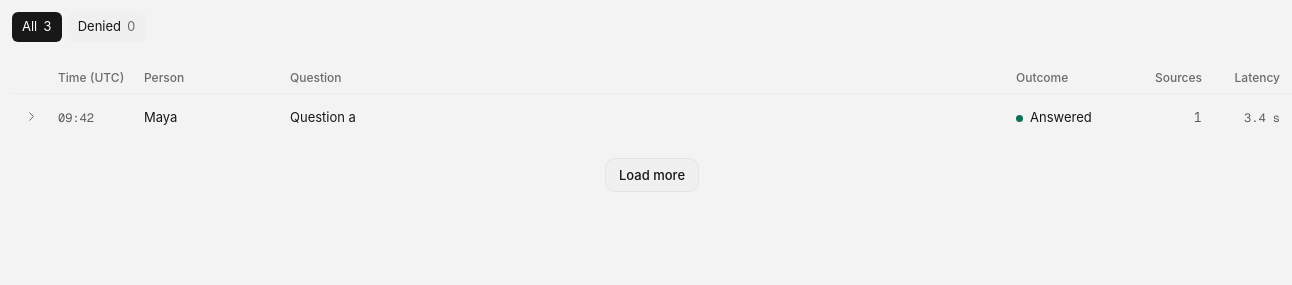
ActivityView › retries a failed trace instead of caching the failure
The width and height of the screenshot is (1292, 285).
Click the button named "Question a" at (32, 116), box [24, 109, 39, 124]
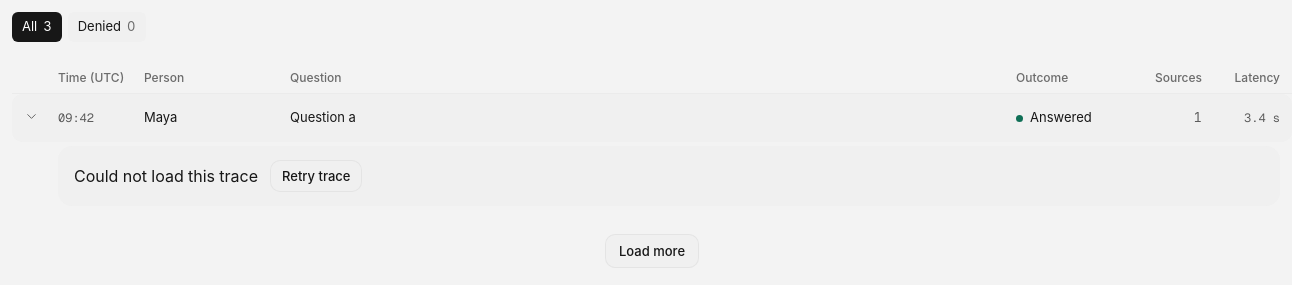
Now the text "Could not load this trace" is shown, box [74, 166, 258, 186]
Click the button "Retry trace" at (316, 176), box [270, 160, 362, 192]
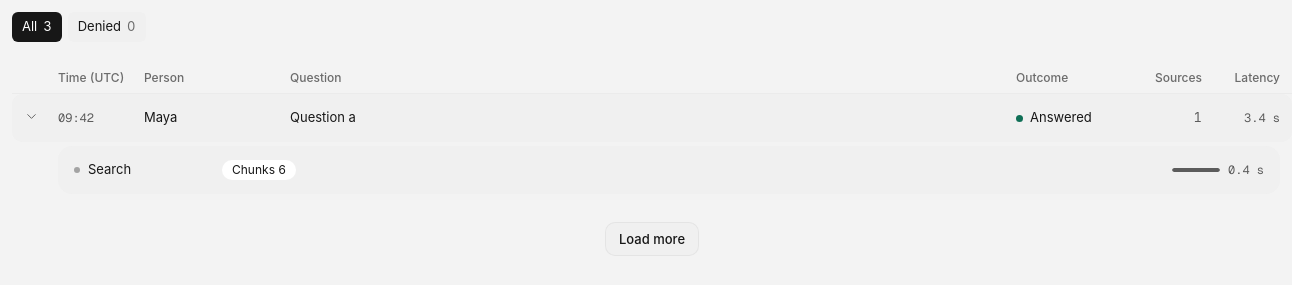
Now the text "Chunks 6" is shown, box [222, 160, 296, 180]
